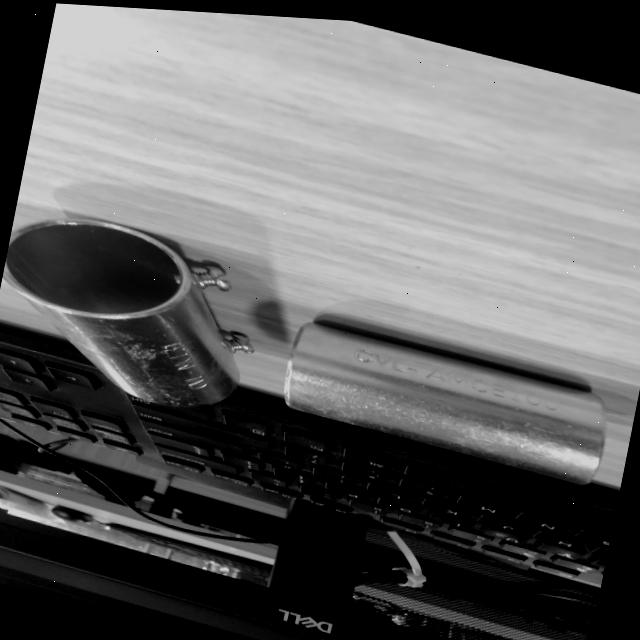Co_Lon: (0, 188, 285, 438)
Co_Nho: (277, 318, 616, 488)
